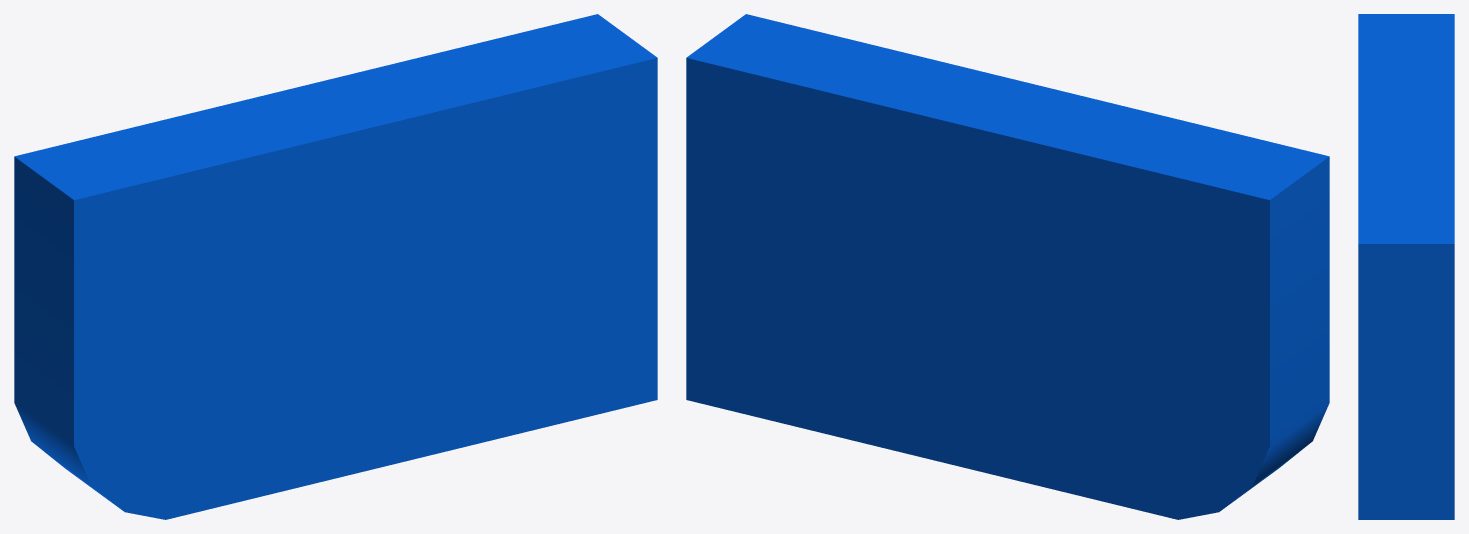
The model's file is LeftBottom.fbx.
The picture shows the model from 3 angles, left to right: view 1: azimuth 30°, elevation 25°; view 2: azimuth 150°, elevation 25°; view 3: azimuth 270°, elevation 25°; orthographic projection. The views are drawn at different scales.
Visible parts, largest first — view 1: LeftBottom; view 2: LeftBottom; view 3: LeftBottom.
Boxes of the visible parts, bbox=[...] form: LeftBottom: bbox=[14, 14, 657, 519]; LeftBottom: bbox=[686, 14, 1329, 519]; LeftBottom: bbox=[1358, 14, 1454, 519].
Bounding box in the file's own units: 0.3497 × 0.1959 × 0.0621.
